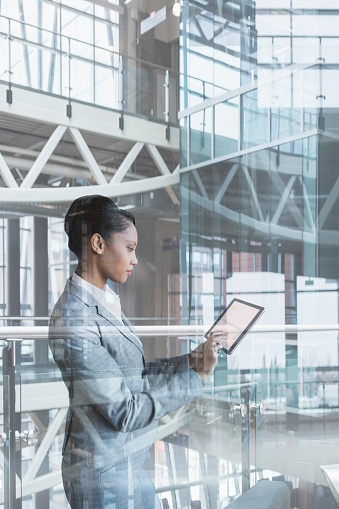em pe: (39, 193, 238, 509)
